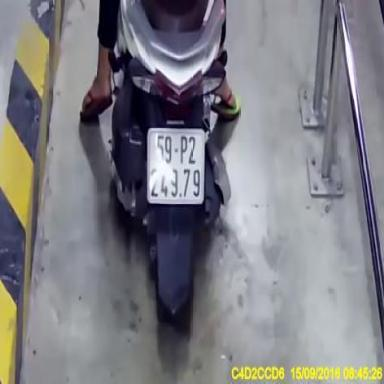License_Plate: (144, 123, 207, 210)
